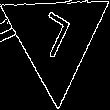L_SW: (34, 9, 78, 67)
